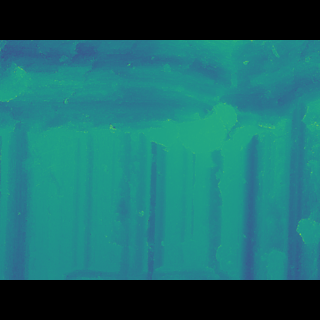Loch: (0, 68, 320, 159), (214, 130, 270, 249), (37, 221, 245, 250), (256, 225, 290, 250), (294, 203, 320, 222)
